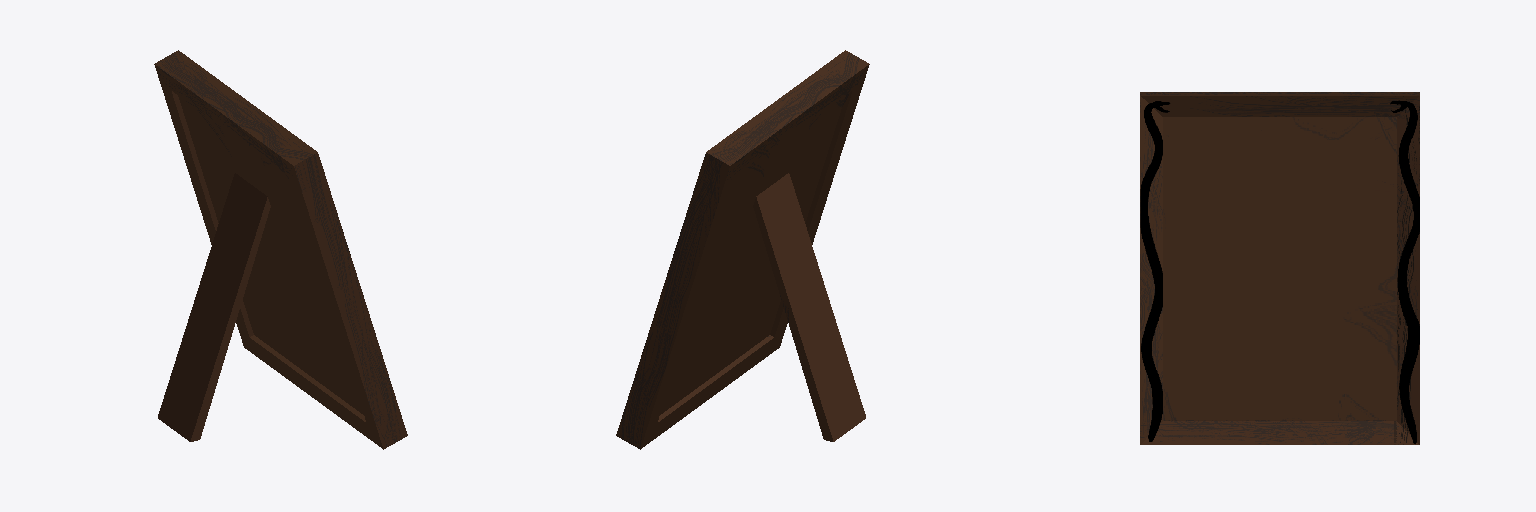
3 views of the same model, side by side, from view 1: azimuth 30°, elevation 25°; view 2: azimuth 150°, elevation 25°; view 3: azimuth 270°, elevation 25° (orthographic).
Visible parts, largest first — view 1: pCube1_0; view 2: pCube1_0; view 3: pCube1_0.
Boxes of the visible parts, x1=… form: pCube1_0: x1=154, y1=50, x2=407, y2=449; pCube1_0: x1=616, y1=50, x2=869, y2=449; pCube1_0: x1=1140, y1=92, x2=1419, y2=444.
Size of the model in its own units: 3.23 by 5.88 by 4.75.
Materials: 1 (1 with a texture image).